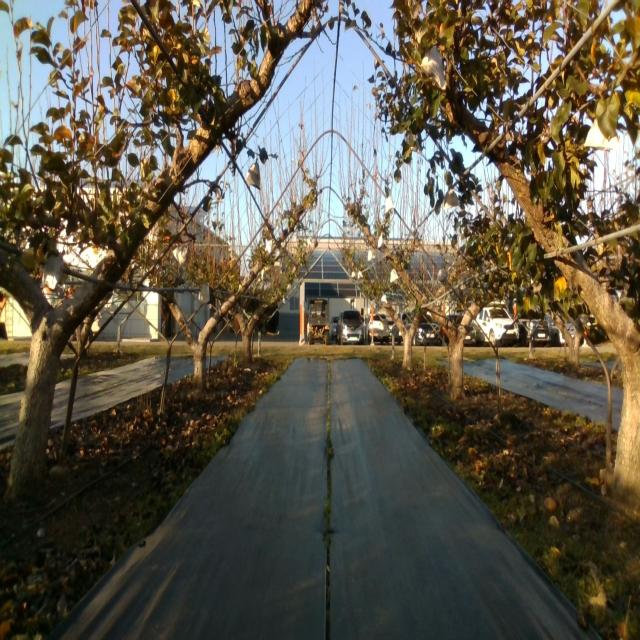pearbags: (583, 118, 621, 150), (421, 47, 447, 92), (40, 255, 63, 291), (244, 156, 261, 190), (172, 244, 190, 271), (444, 189, 459, 210)
